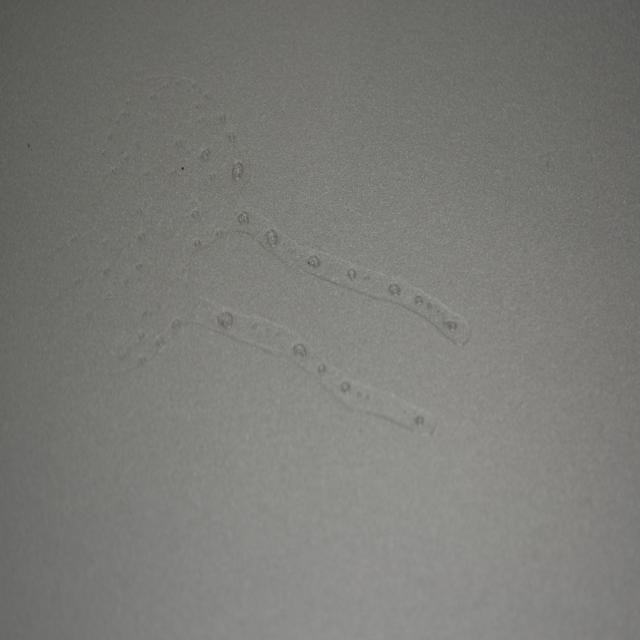runs: (72, 78, 475, 428)
